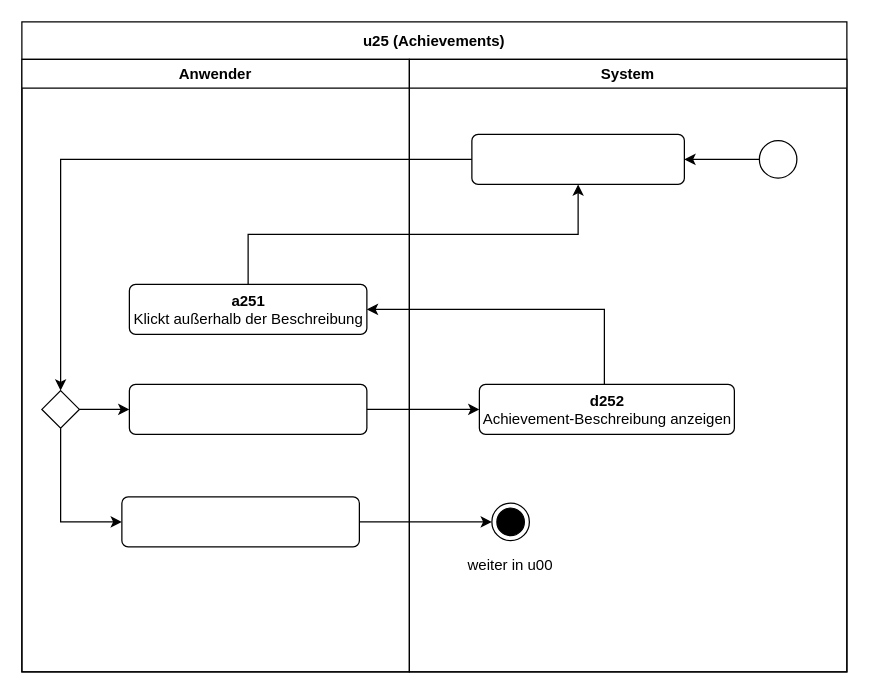
This 869x694 diagram has some shape labels left out. Here are the shapes that lost their labels. From the top down, the centre of each, then its label:
At (x=577, y=158): "d251 Achievement-Icons anzeigen".
At (x=247, y=408): "a252 Ein Achievement-Icon anklicken".
At (x=240, y=521): "a253 Klickt auf Zurück-Icon".
